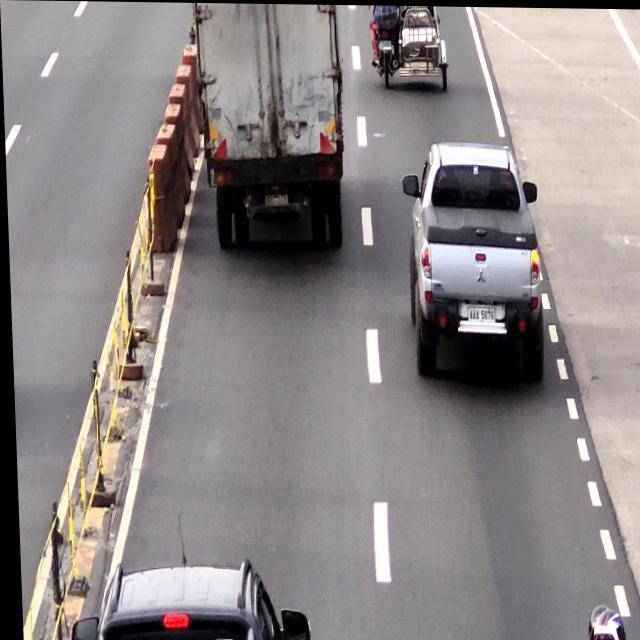Car: (409, 144, 536, 375), (85, 568, 279, 640)
License-Plate: (465, 301, 494, 326)
Tricycle: (373, 4, 452, 91)
Truck: (200, 2, 345, 251)
